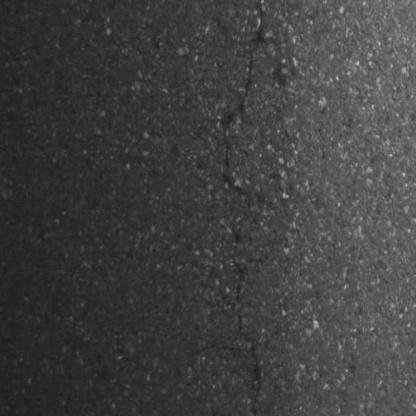Cracks: (218, 0, 271, 201), (227, 223, 254, 349)
